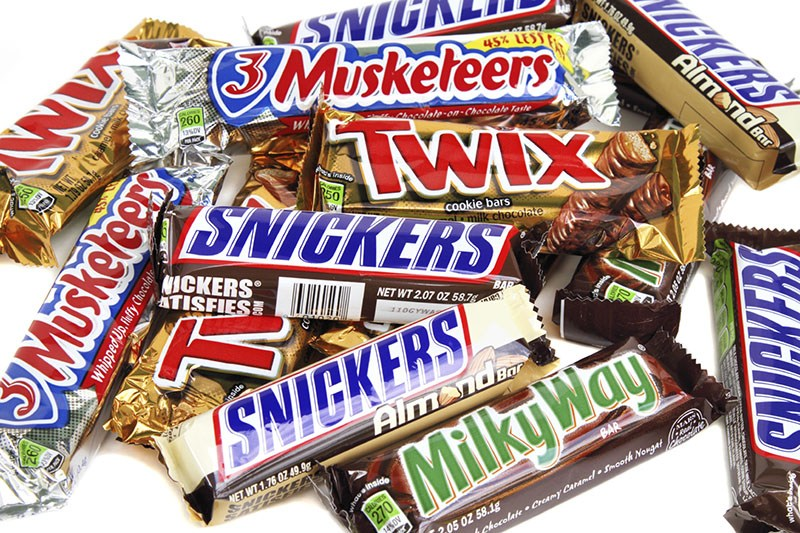snickers: (223, 308, 463, 469), (223, 308, 455, 469), (227, 308, 455, 469), (188, 202, 503, 274), (632, 0, 797, 98), (737, 244, 799, 449), (301, 0, 546, 44)
